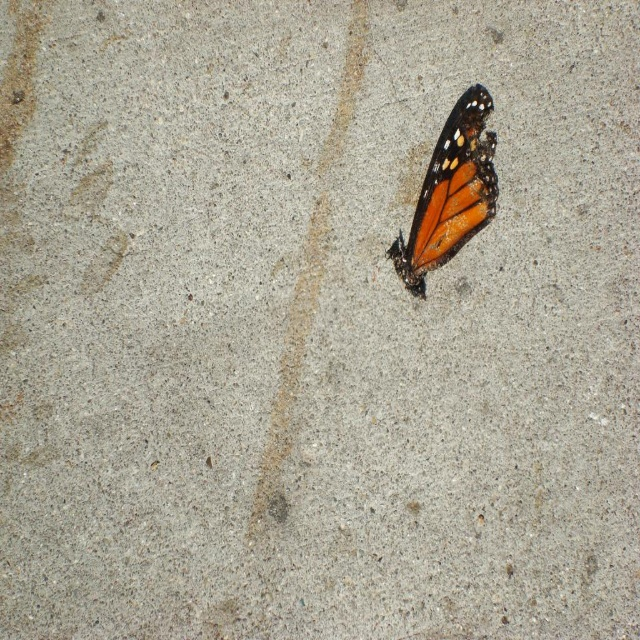Butterfly: (393, 84, 504, 289)
